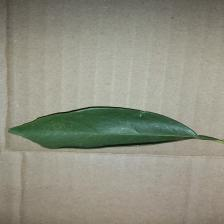healthy: (18, 109, 208, 150)
